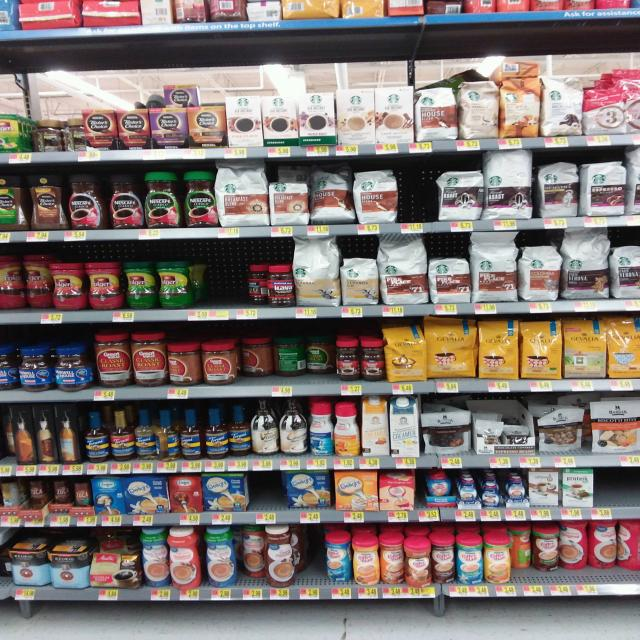void: (200, 241, 242, 309), (404, 156, 433, 226), (602, 469, 640, 509), (254, 473, 282, 514), (305, 527, 321, 585)
